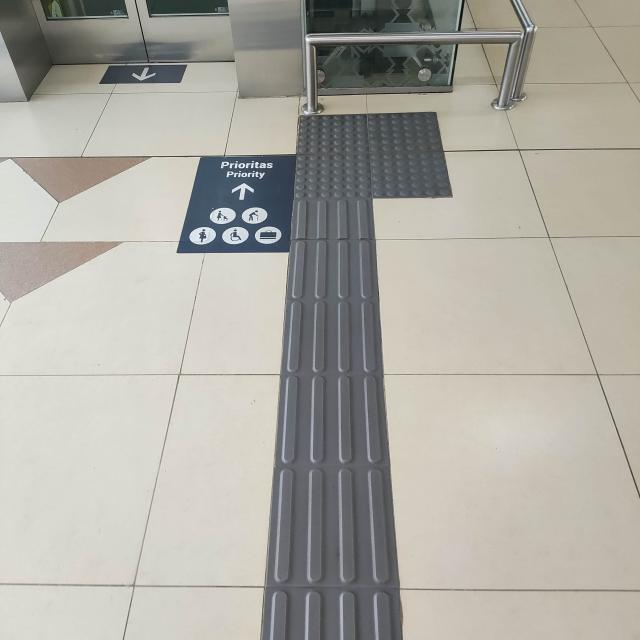lurus: (268, 179, 432, 640)
